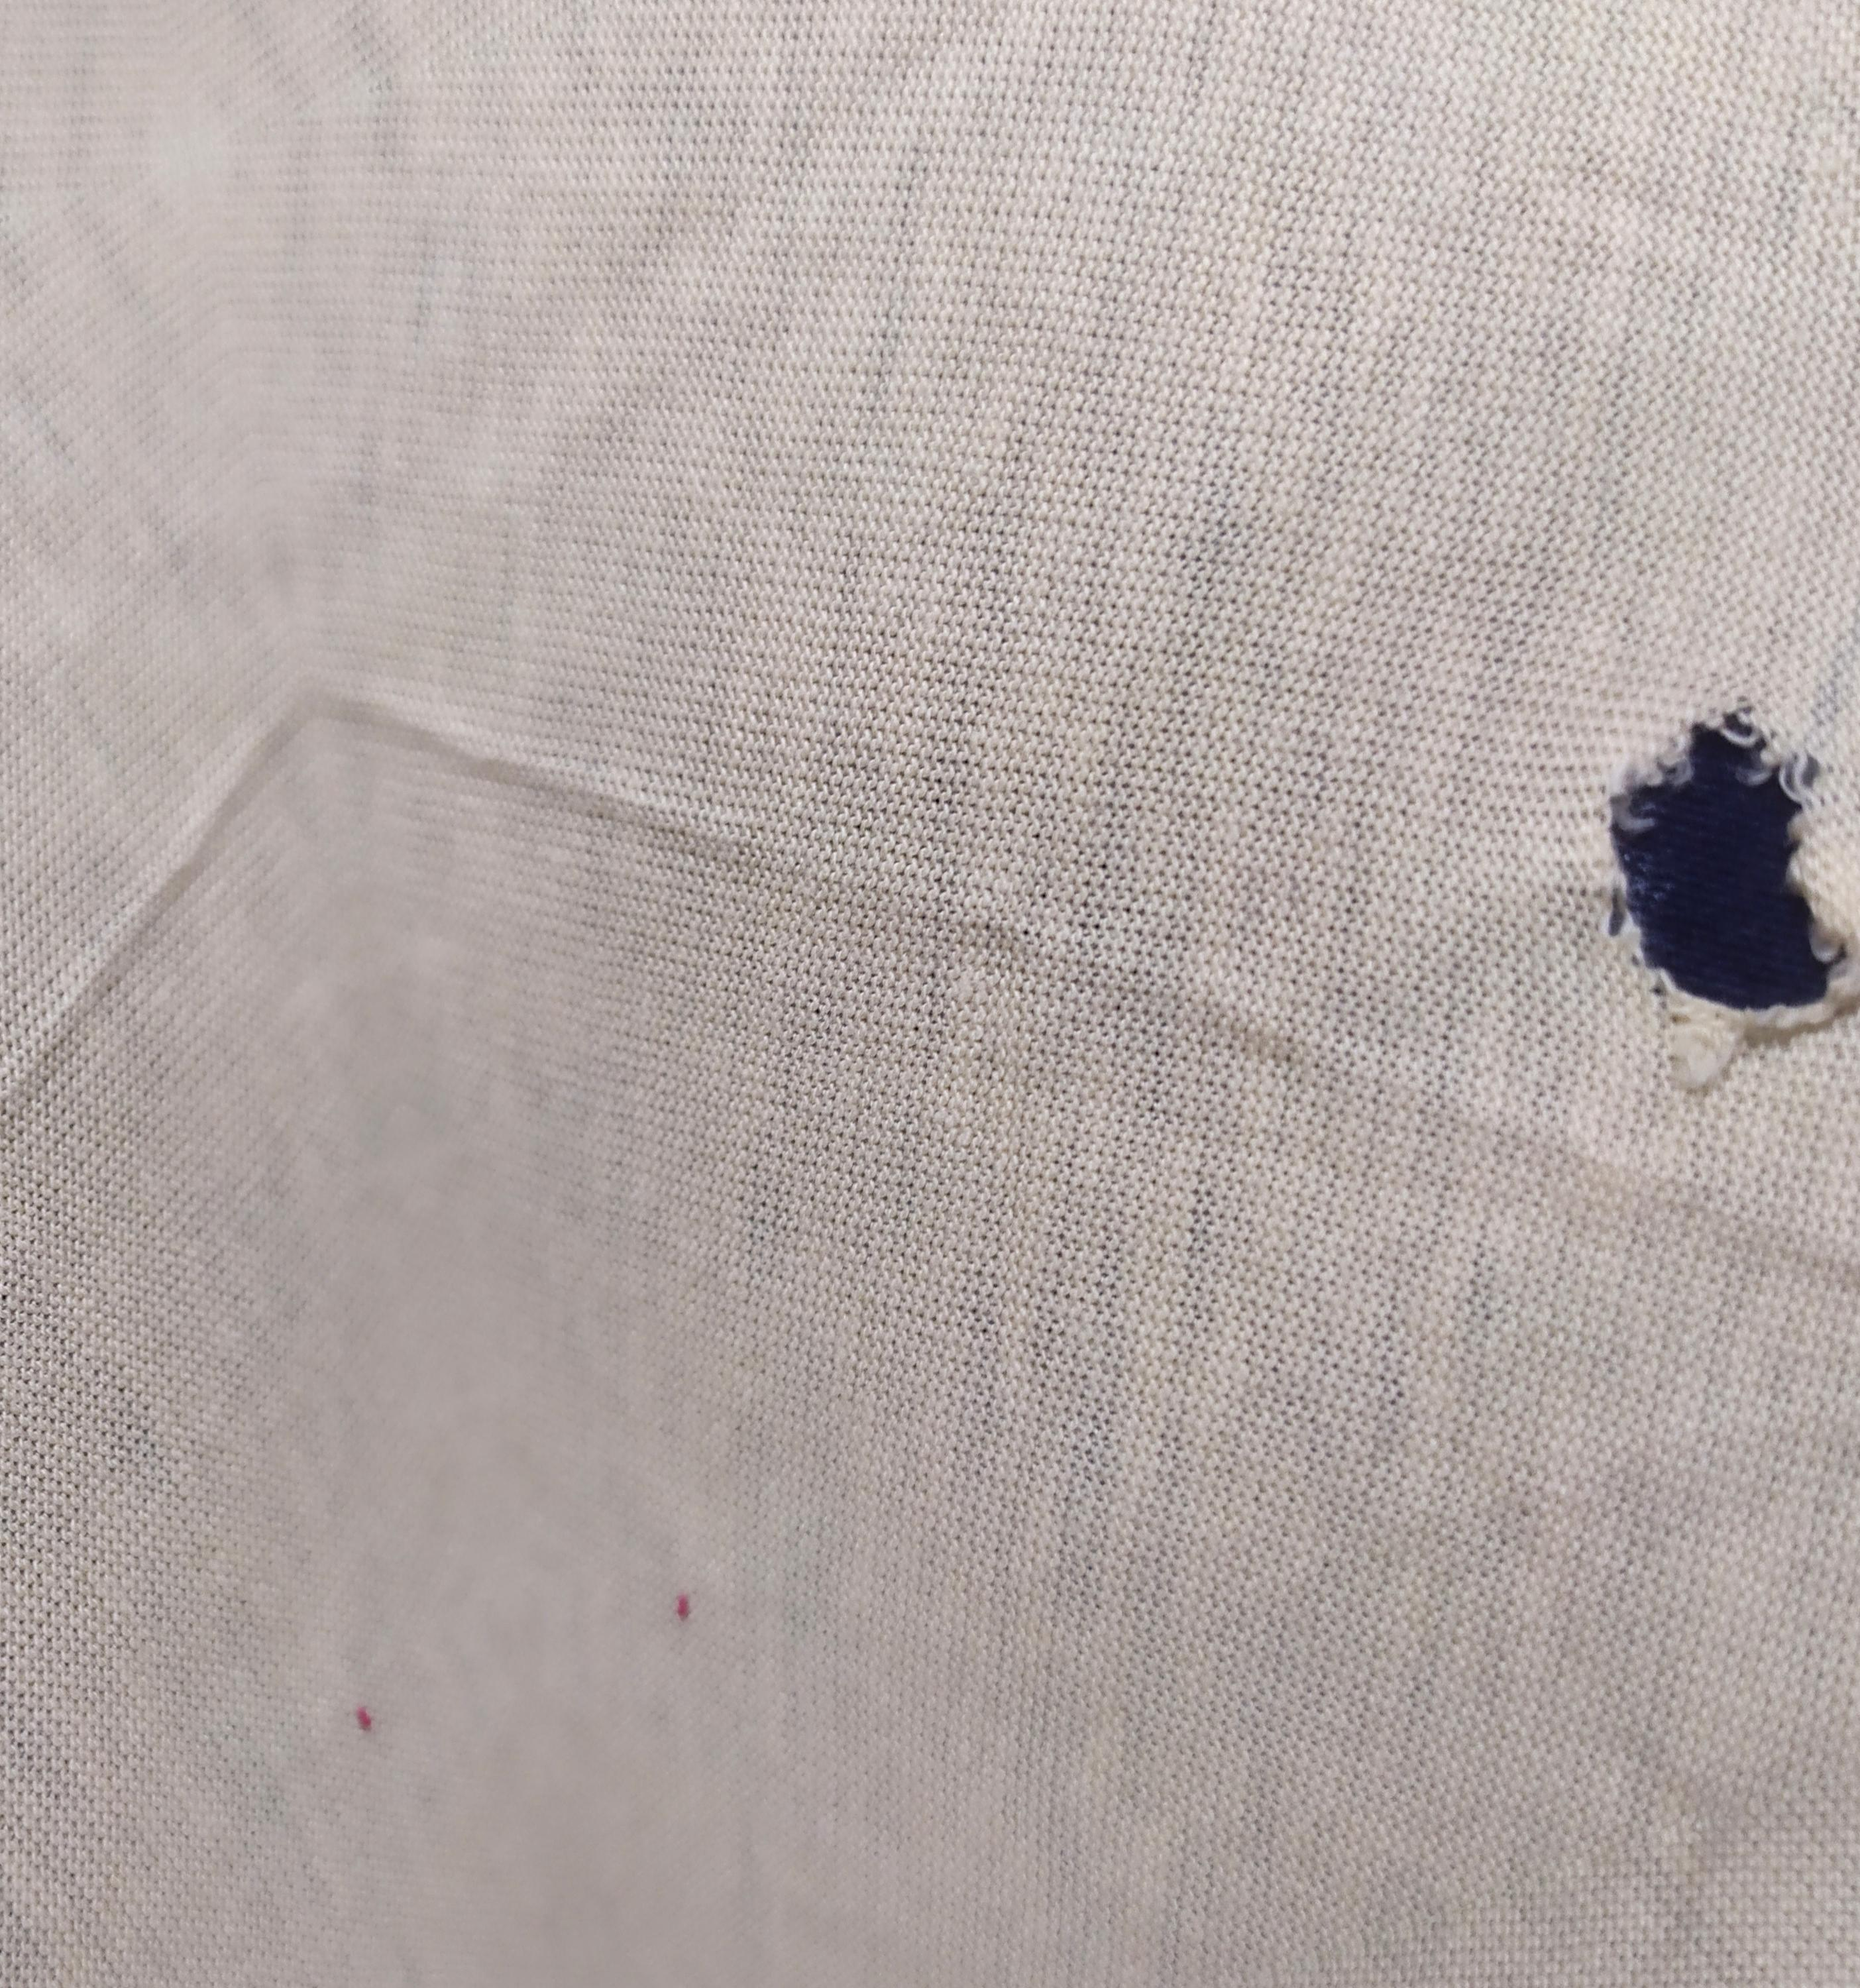hole: (1589, 685, 1860, 1091)
